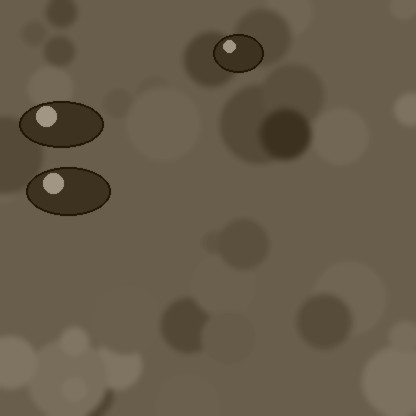gota: (26, 169, 110, 219), (19, 103, 103, 151), (213, 35, 263, 75)
